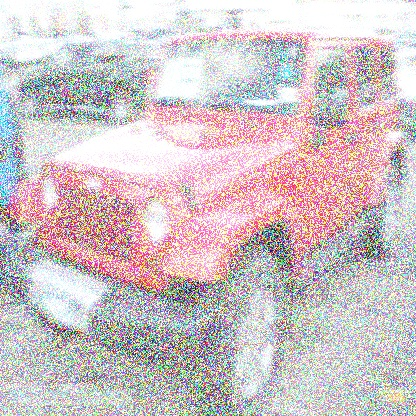Vehicle: (1, 28, 407, 416)
